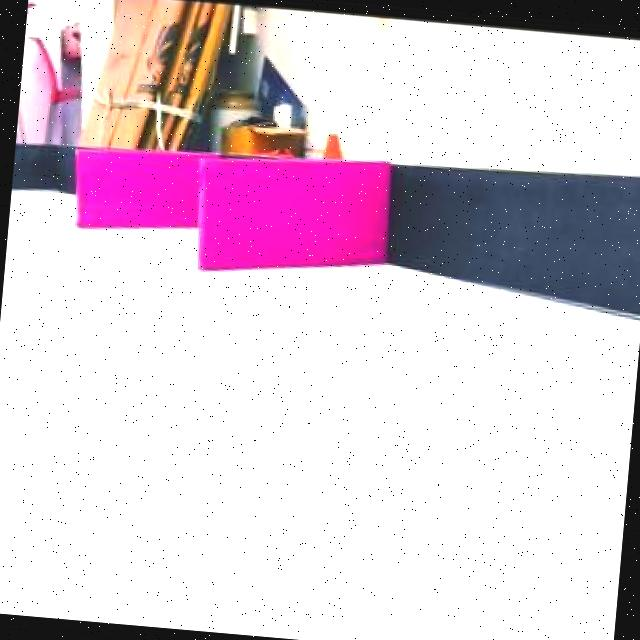xparking: (193, 150, 392, 272), (68, 146, 199, 237)
